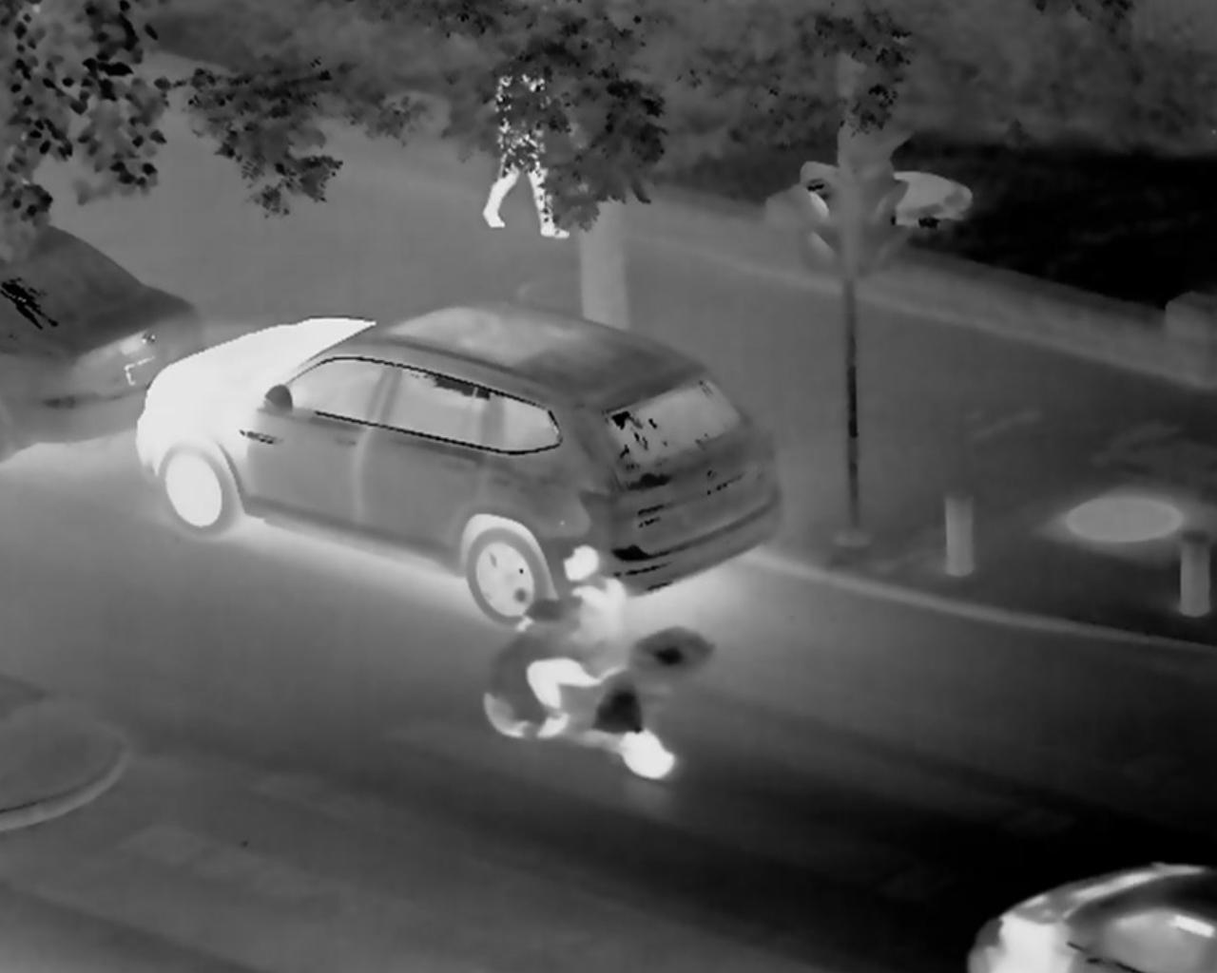person: (475, 61, 589, 243)
